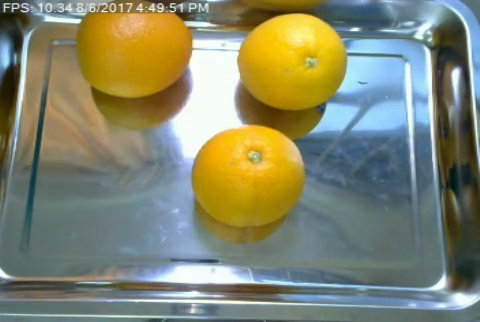Orange: (193, 122, 306, 226), (238, 13, 346, 111), (75, 13, 192, 98)
